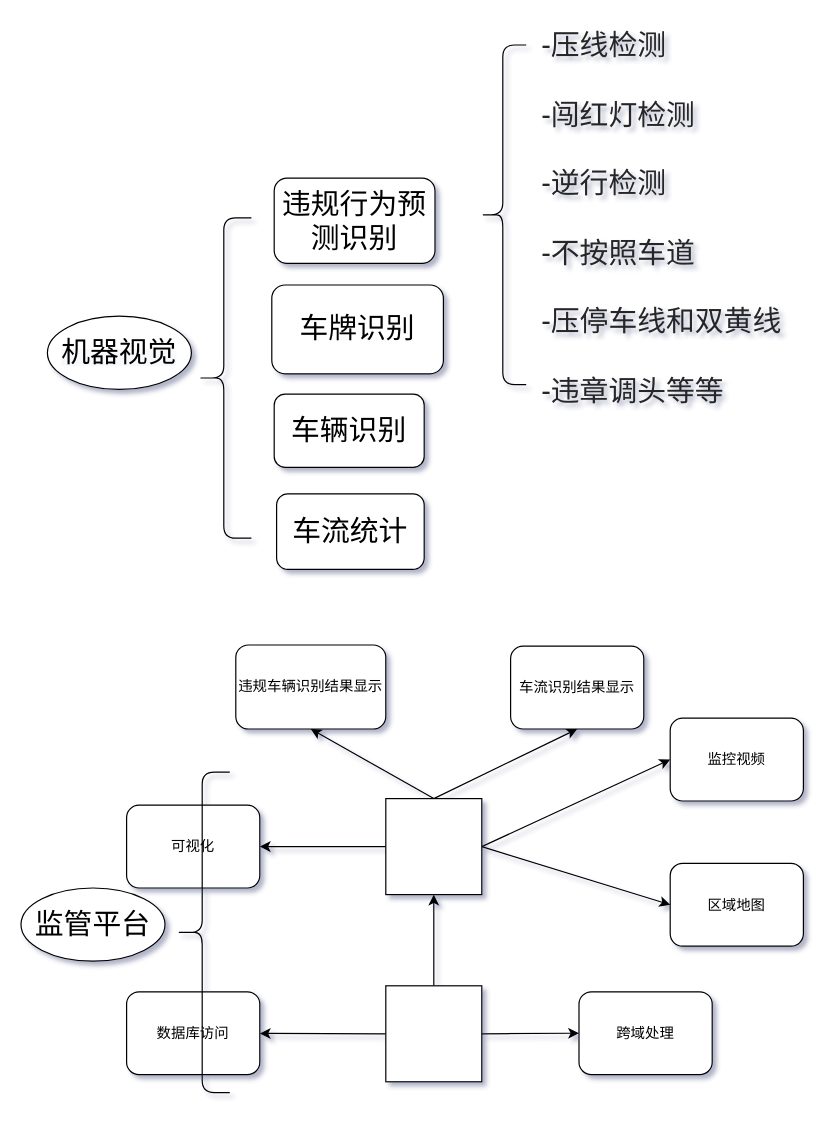
Image size: 832x1121. Some labels were removed from this diagram. The shapes that lost their labels are listed below. From the top down, each one's centre as x and y in pixels, then its label:
point (433, 846): vue电子警察网站
point (433, 1033): spring服务器
